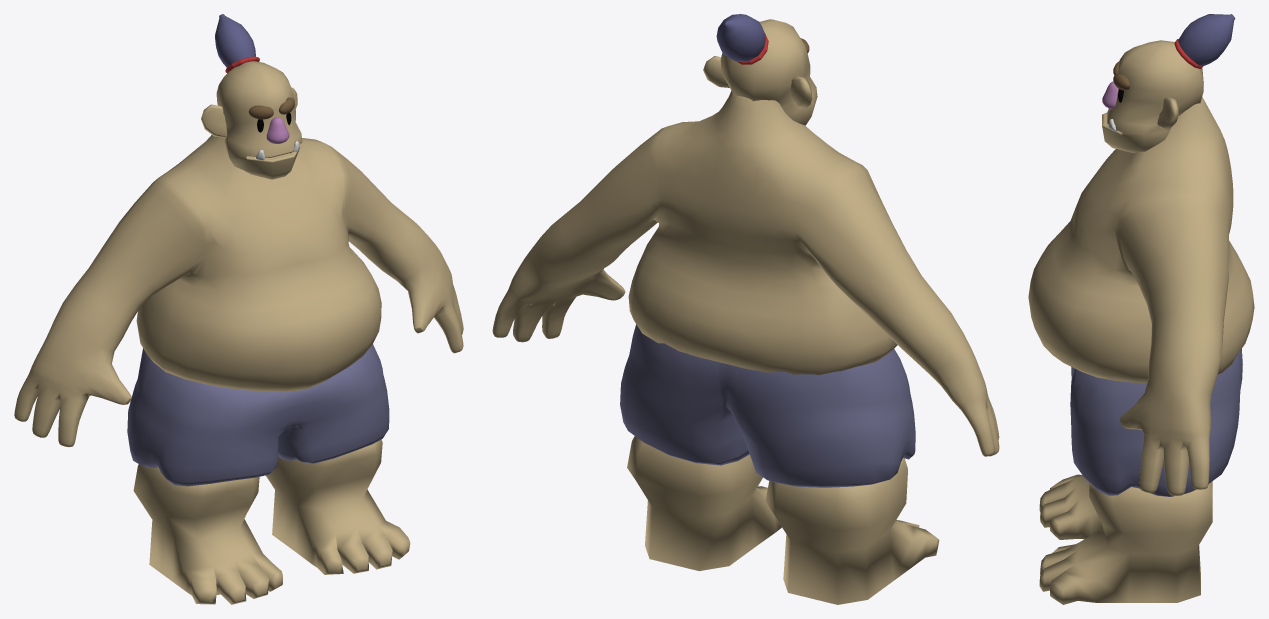
The model's file is ogre01_v001.fbx.
3 renders of one model, left to right at view 1: azimuth 30°, elevation 25°; view 2: azimuth 150°, elevation 25°; view 3: azimuth 270°, elevation 25°, orthographic. The views are drawn at different scales.
Visible parts, largest first — view 1: ogre01_mdl; view 2: ogre01_mdl; view 3: ogre01_mdl.
Part boxes in pixels (left/top/right/bottom): ogre01_mdl: left=14, top=14, right=463, bottom=604; ogre01_mdl: left=492, top=14, right=999, bottom=604; ogre01_mdl: left=1028, top=14, right=1254, bottom=604.
Bounding box in the file's own units: 274 × 300 × 114.
